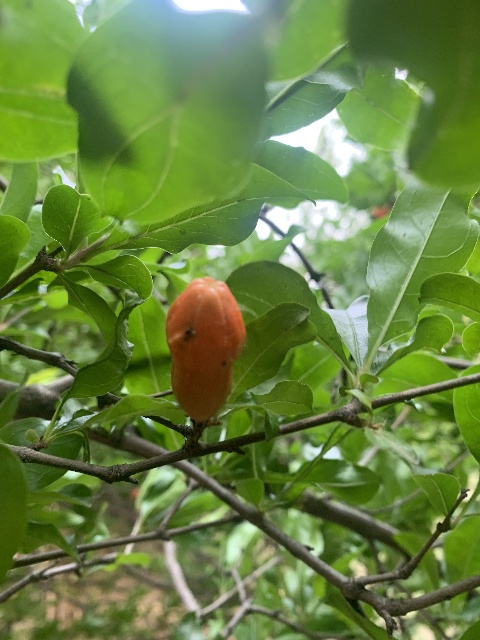bud: (164, 276, 245, 420)
